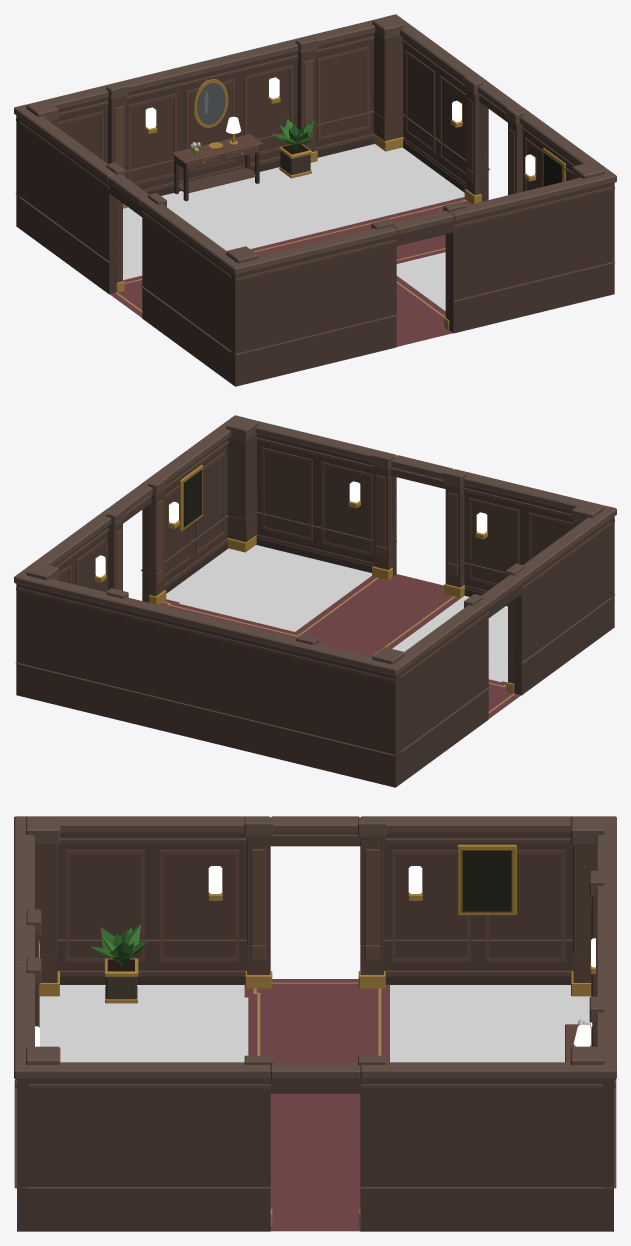
Rendered from corridorW.glb.
3 renders of one model, top to bottom at view 1: azimuth 30°, elevation 25°; view 2: azimuth 150°, elevation 25°; view 3: azimuth 270°, elevation 25°, orthographic. The views are drawn at different scales.
Parts seen in each view (by area): view 1: static, W_north_0_up, floor, W_south_0_up, W_south_1_up, W_west_0_up, W_west_1_up, W_east_0_up, W_east_1_up; view 2: W_north_0_up, static, floor, W_south_1_up, W_south_0_up, W_west_0_up, W_west_1_up, W_east_1_up, W_east_0_up; view 3: floor, static, W_east_0_up, W_east_1_up, W_west_0_up, W_west_1_up, W_north_0_up, W_south_0_up, W_south_1_up.
Part boxes in pixels (x1,y1,x2,y2): static: (15, 92, 615, 386); W_north_0_up: (14, 15, 404, 196); floor: (110, 144, 471, 346); W_south_0_up: (226, 210, 453, 353); W_south_1_up: (443, 162, 616, 300); W_west_0_up: (14, 104, 148, 262); W_west_1_up: (141, 193, 246, 350); W_east_0_up: (385, 14, 522, 173); W_east_1_up: (505, 105, 616, 195); W_north_0_up: (14, 563, 404, 754); static: (15, 493, 615, 787); floor: (159, 545, 520, 718); W_south_1_up: (226, 416, 396, 547); W_south_0_up: (391, 455, 616, 597); W_west_0_up: (384, 574, 522, 751); W_west_1_up: (505, 505, 616, 662); W_east_1_up: (141, 415, 245, 574); W_east_0_up: (14, 484, 152, 591); floor: (39, 979, 590, 1231); static: (14, 924, 616, 1231); W_east_0_up: (270, 1055, 616, 1186); W_east_1_up: (14, 1055, 272, 1186); W_west_0_up: (270, 816, 616, 945); W_west_1_up: (14, 816, 272, 945); W_north_0_up: (570, 816, 616, 1186); W_south_0_up: (14, 816, 60, 987); W_south_1_up: (14, 957, 60, 1186).
Size of the model in its own units: 8.08 by 2.48 by 8.08.
